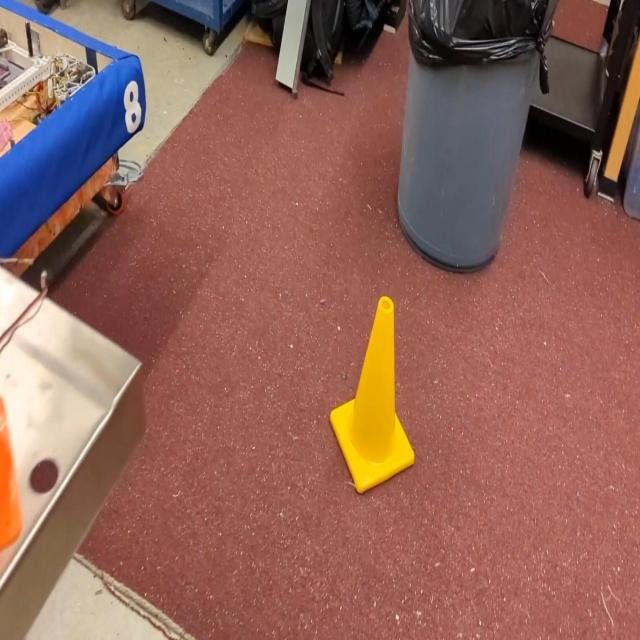frc_cone: (330, 296, 416, 495)
